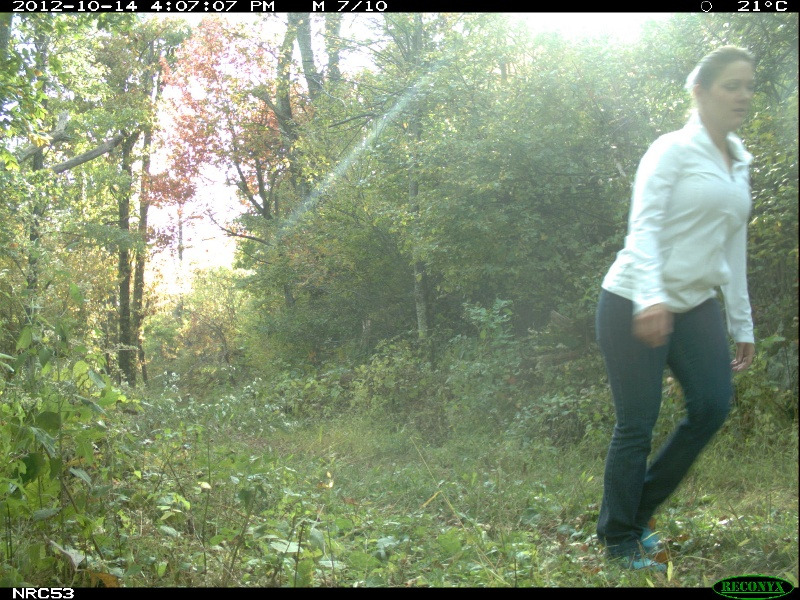human: (580, 38, 765, 576)
human face: (701, 60, 754, 142)
human legs: (587, 272, 737, 573)
